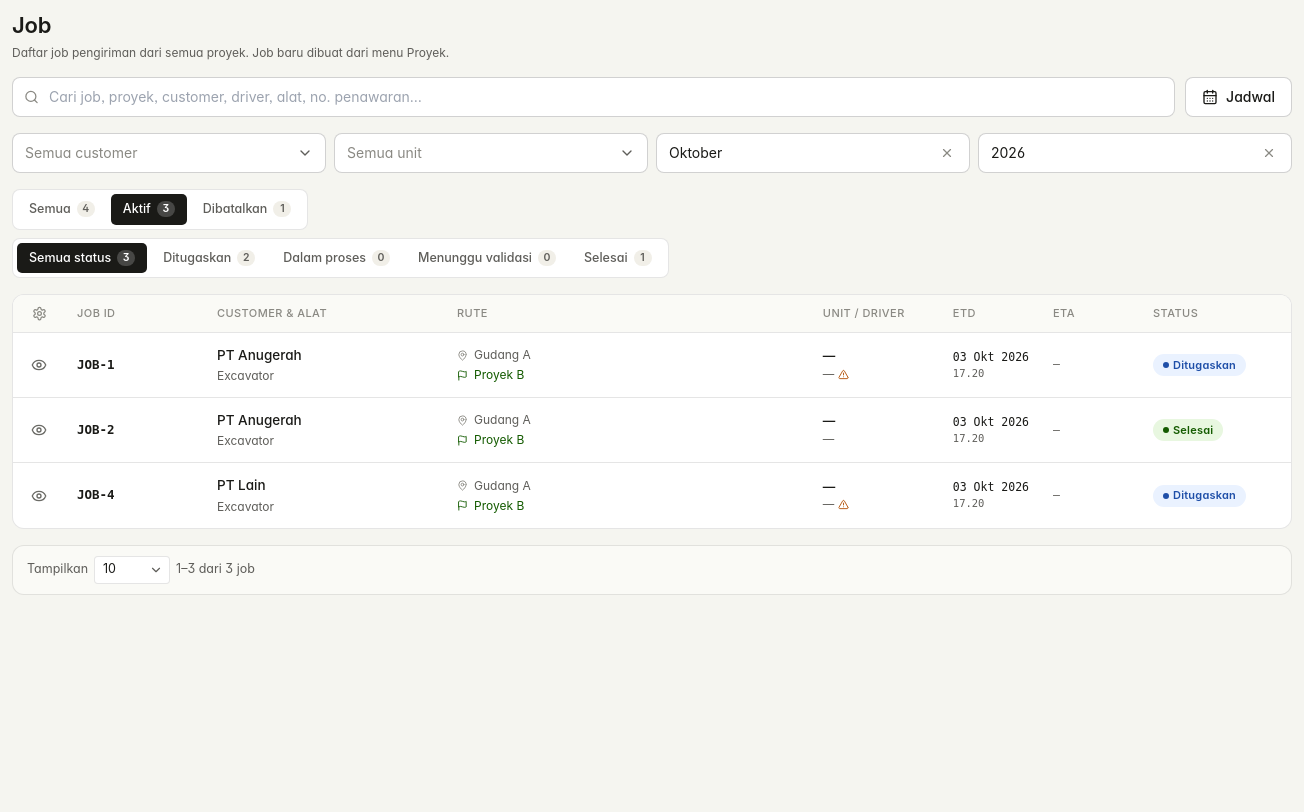
Test: daftar job › filter tahap di kelompok Aktif: Selesai hanya menampilkan job selesai
This screenshot has width=1304, height=812.
What coordinates should you click on to do the following:
click the button "Selesai 1"
I would click on:
 (618, 258)
Its box is [572,243,664,273].
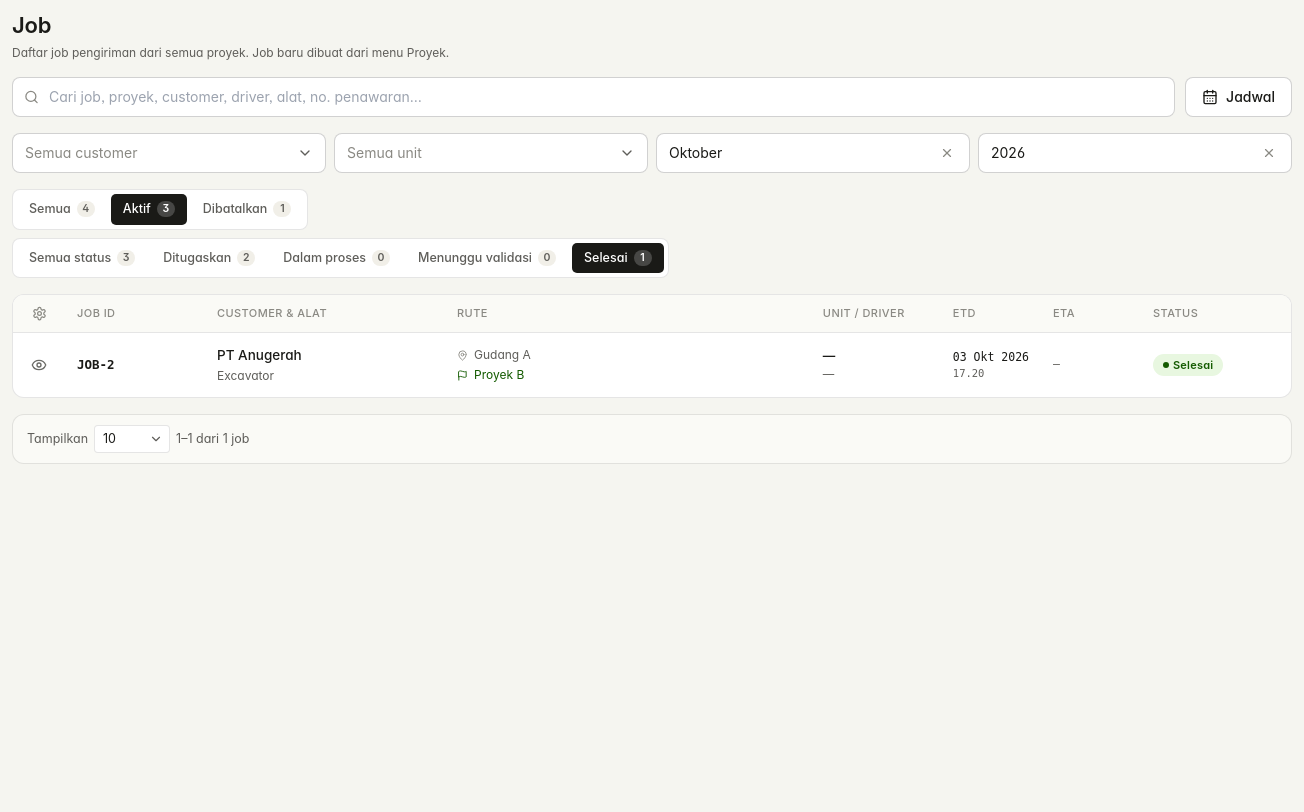
Expected: the text "JOB-2" is shown, [77,357,115,372]
Result: the text "JOB-1" is gone
